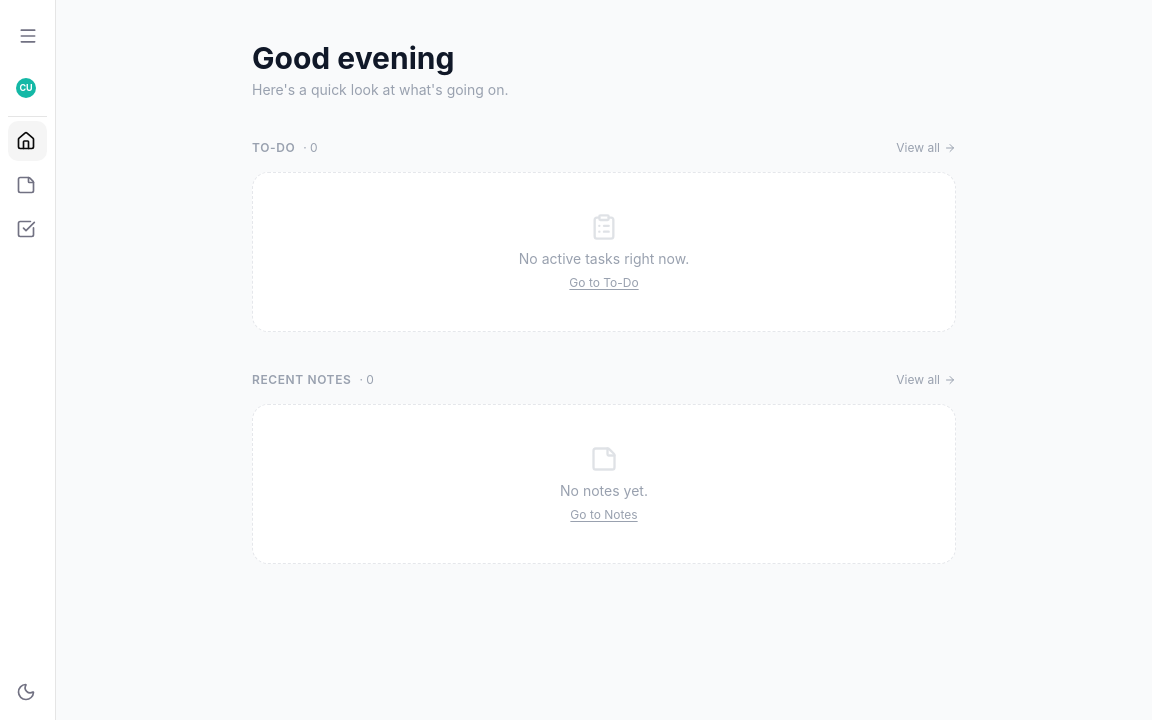
it: Navbar › goes to account from the navbar
Step 1. Click the link to "/account" → point(26, 88), box [16,78,36,98]
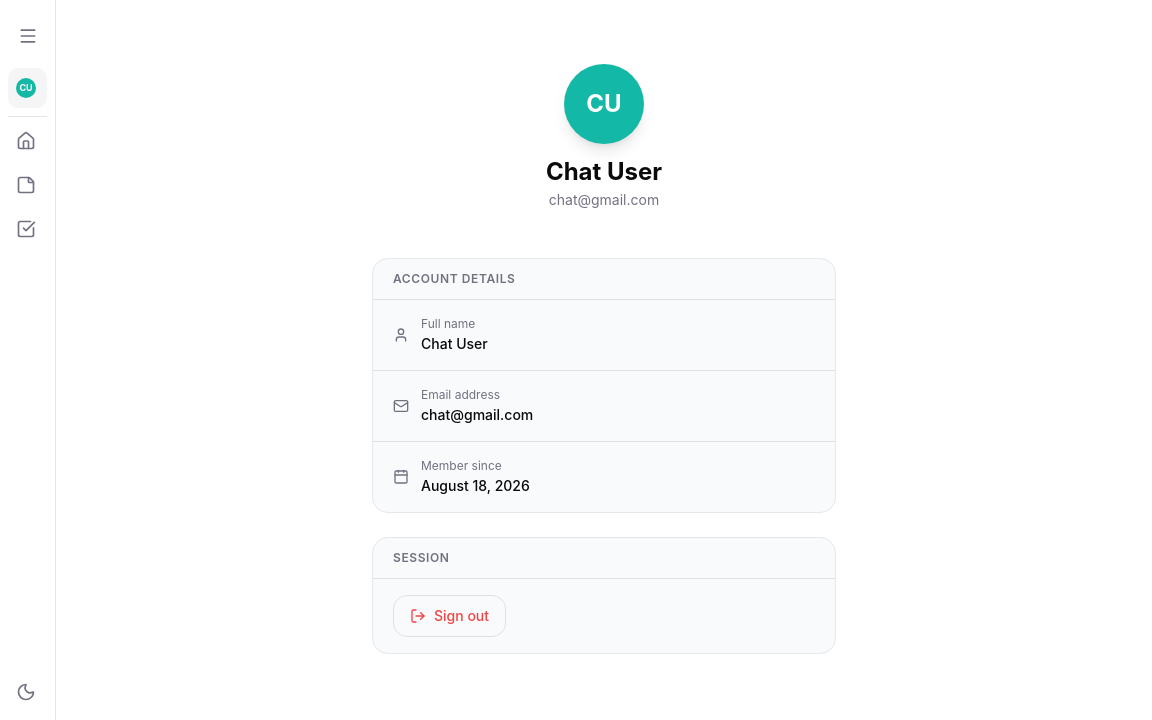
Result: the heading "Chat User" is shown at [546,156,662,188]
